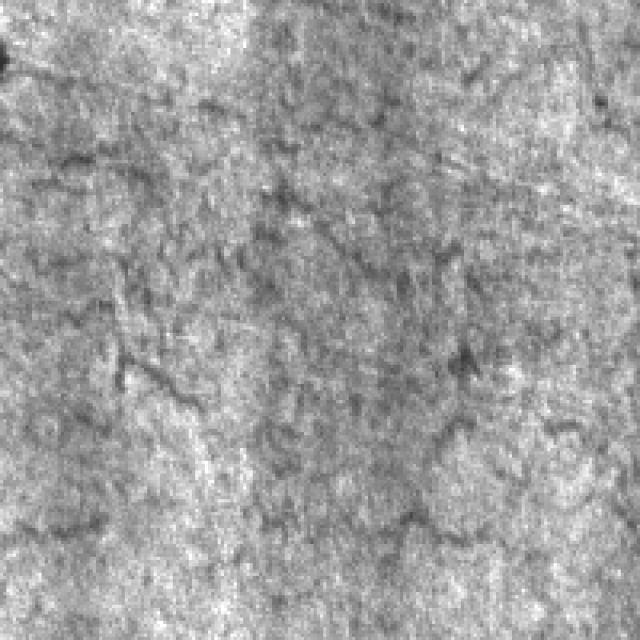crazing: (250, 166, 582, 544), (38, 90, 240, 435)
